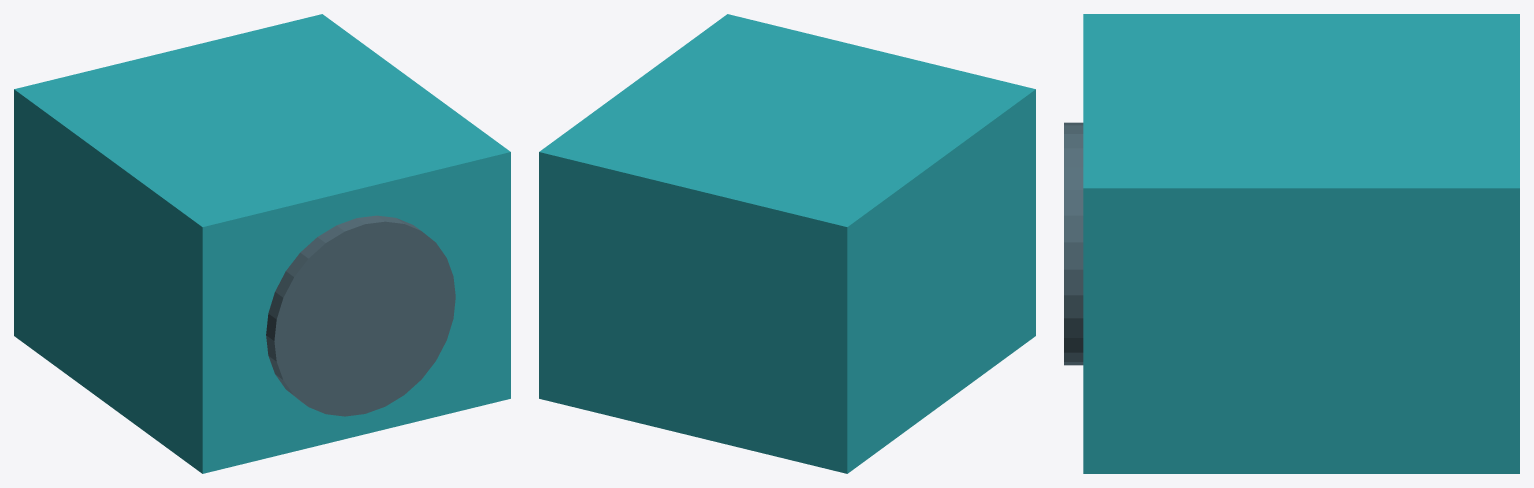
File: ac-condenser.glb
3 views of the same model, side by side, from view 1: azimuth 30°, elevation 25°; view 2: azimuth 150°, elevation 25°; view 3: azimuth 270°, elevation 25° (orthographic). The views are drawn at different scales.
Visible parts, largest first — view 1: world; view 2: world; view 3: world.
Boxes of the visible parts, x1=… form: world: x1=14, y1=14, x2=510, y2=473; world: x1=539, y1=14, x2=1035, y2=473; world: x1=1064, y1=14, x2=1519, y2=473.
Size of the model in its own units: 0.85 by 0.68 by 0.94.
